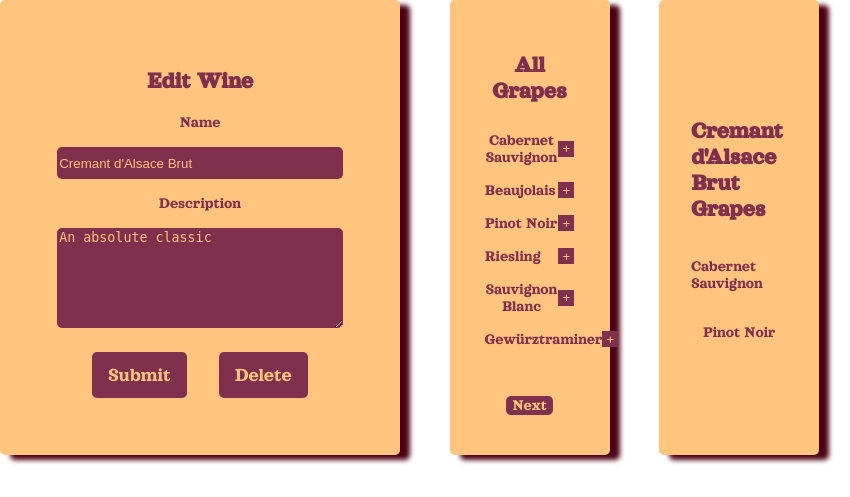
<EditWine /> › handles submit errors properly
What coordinates should you click on to do the following:
click the button "Submit"
I would click on:
 (139, 375)
Its box is [92, 352, 187, 398].
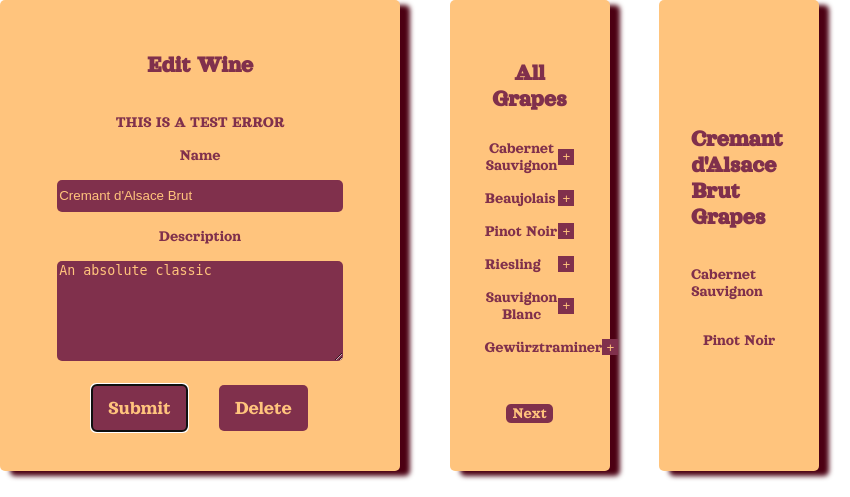
Check: the text "THIS IS A TEST ERROR" is shown, box [116, 114, 284, 131]
